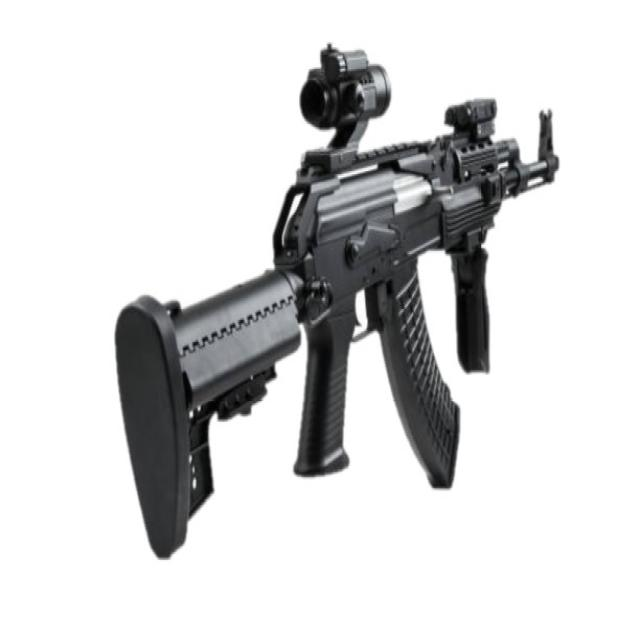rifle: (109, 34, 566, 574)
